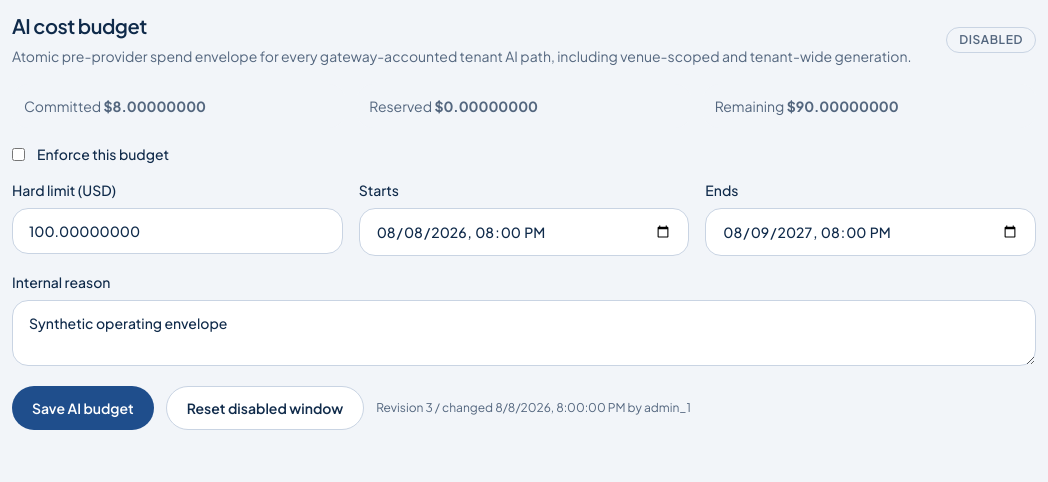
it: AdminAiCostBudgetForm › requires a persisted disabled state and confirmation before resetting an epoch
This screenshot has width=1048, height=482.
Click the button "Reset disabled window" at (265, 408), box [166,386,364,430]
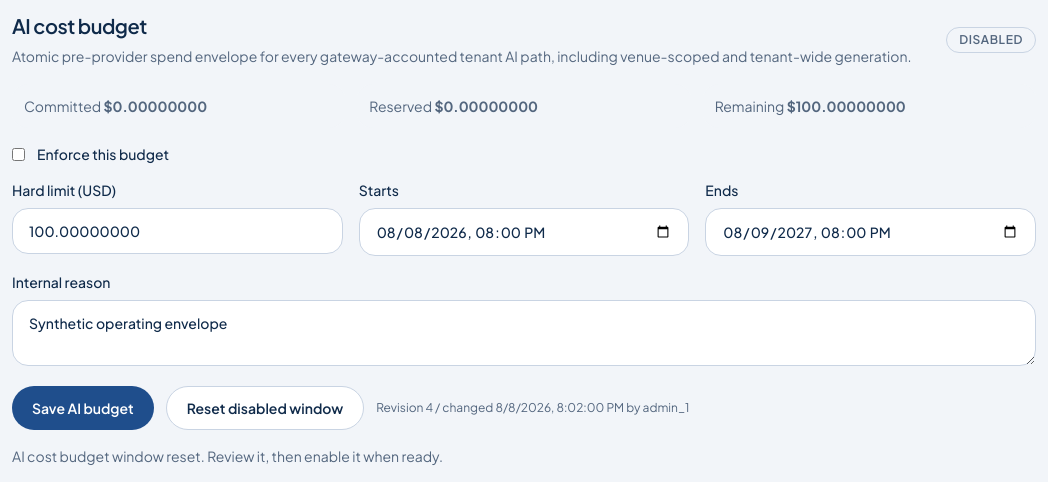
Expected: the text "AI cost budget window reset. Review it, then enable it when ready." is shown, [12,447,443,465]
